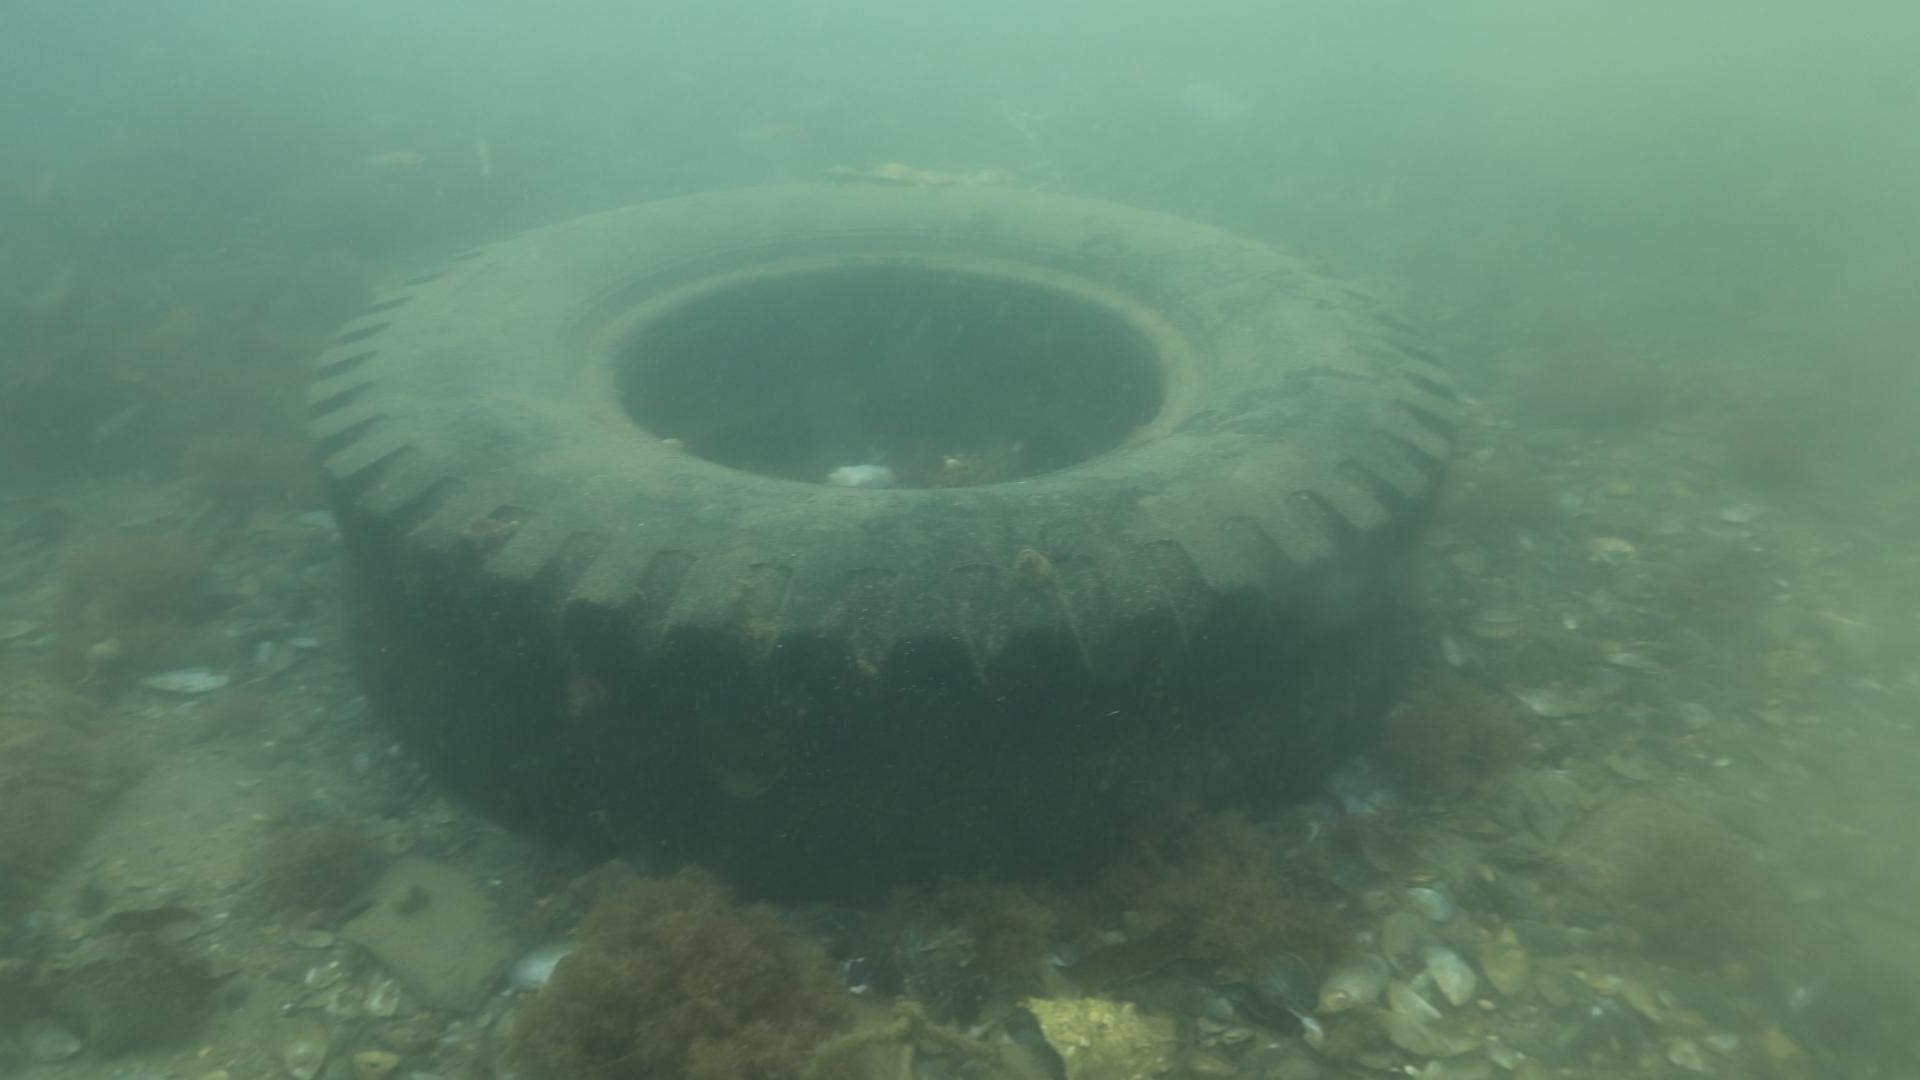tire: (309, 178, 1460, 899)
